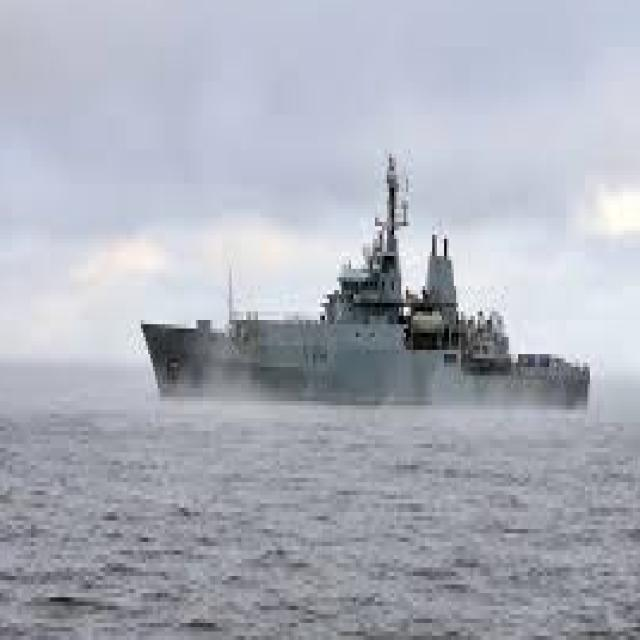navalvessels: (130, 137, 594, 416)
